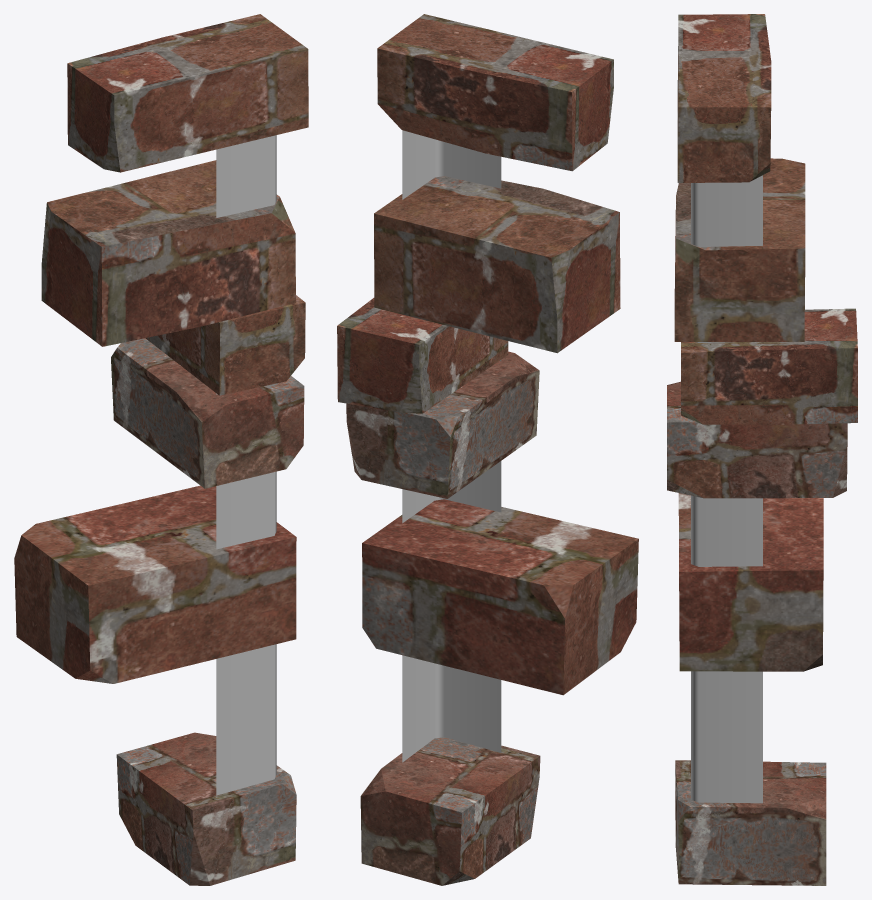
Rendered from SM_Wall_Corner_Half_01.fbx.
The picture shows the model from 3 angles, left to right: view 1: azimuth 30°, elevation 25°; view 2: azimuth 150°, elevation 25°; view 3: azimuth 270°, elevation 25°; orthographic projection. The views are drawn at different scales.
Parts seen in each view (by area): view 1: SM_Wall_Corner_Half_01_LOD0; view 2: SM_Wall_Corner_Half_01_LOD0; view 3: SM_Wall_Corner_Half_01_LOD0.
Boxes of the visible parts, bbox=[...] form: SM_Wall_Corner_Half_01_LOD0: bbox=[14, 14, 308, 885]; SM_Wall_Corner_Half_01_LOD0: bbox=[337, 14, 638, 885]; SM_Wall_Corner_Half_01_LOD0: bbox=[667, 14, 857, 885].
Size of what is drawn, in the model's own units: 85.5 by 303 by 66.37.
